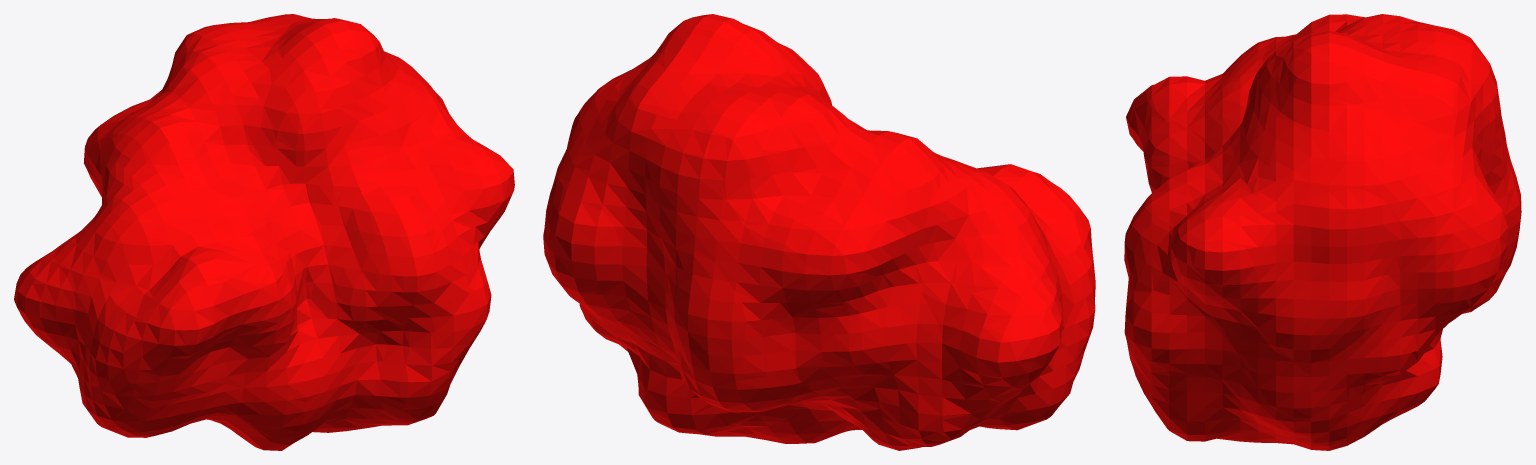
File: pdxI_coarse.dae
3 renders of one model, left to right at view 1: azimuth 30°, elevation 25°; view 2: azimuth 150°, elevation 25°; view 3: azimuth 270°, elevation 25°, orthographic. The views are drawn at different scales.
Visible parts, largest first — view 1: pdxI; view 2: pdxI; view 3: pdxI.
Boxes of the visible parts, left/top/right/bottom form: pdxI: left=14, top=14, right=514, bottom=450; pdxI: left=543, top=14, right=1095, bottom=450; pdxI: left=1124, top=14, right=1521, bottom=450.
Bounding box in the file's own units: 59.93 × 49.3 × 43.34.
